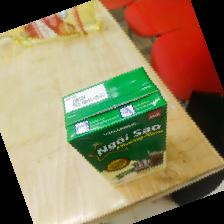NSPN_Hop: (60, 65, 169, 187)
